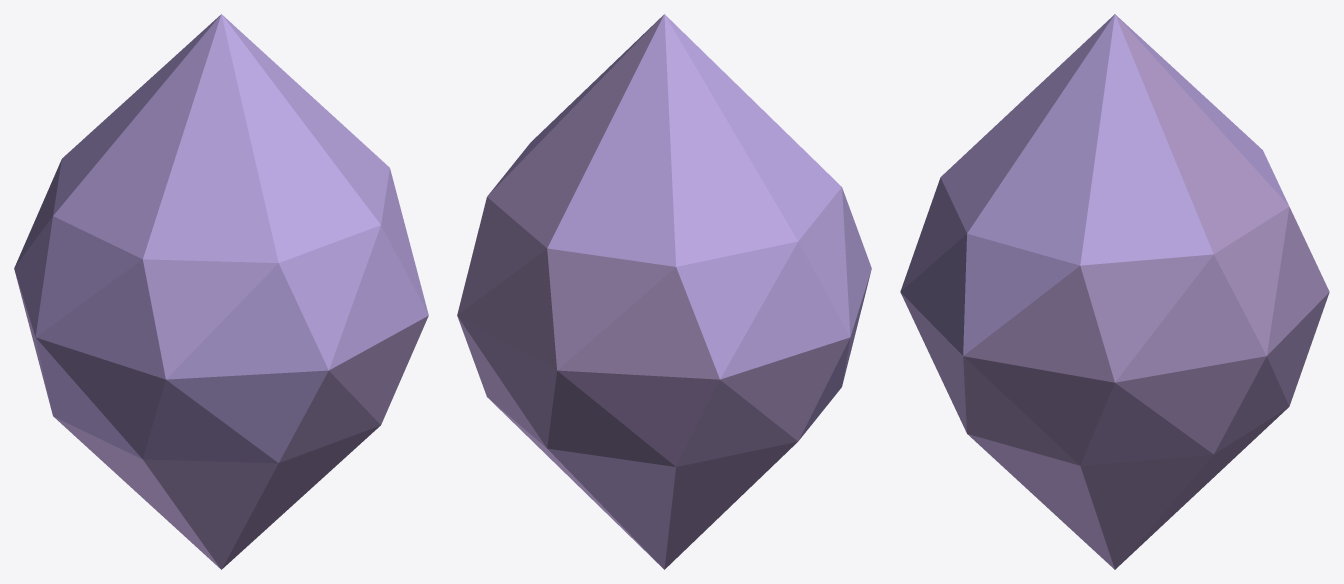
File: crystal.glb
3 views of the same model, side by side, from view 1: azimuth 30°, elevation 25°; view 2: azimuth 150°, elevation 25°; view 3: azimuth 270°, elevation 25° (orthographic).
Parts seen in each view (by area): view 1: gem; view 2: gem; view 3: gem.
Boxes of the visible parts, bbox=[...] form: gem: bbox=[14, 14, 428, 569]; gem: bbox=[457, 14, 871, 569]; gem: bbox=[900, 14, 1329, 569].
Size of the model in its own units: 0.035 by 0.05 by 0.035.
